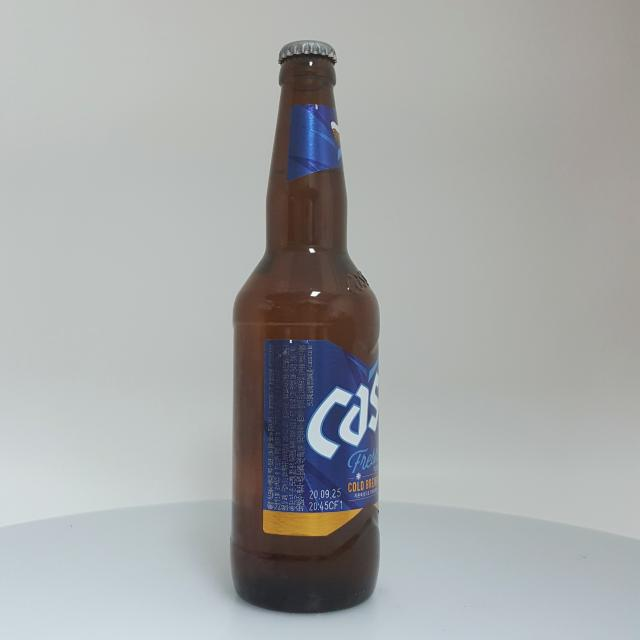beer-bottle: (230, 40, 380, 614)
